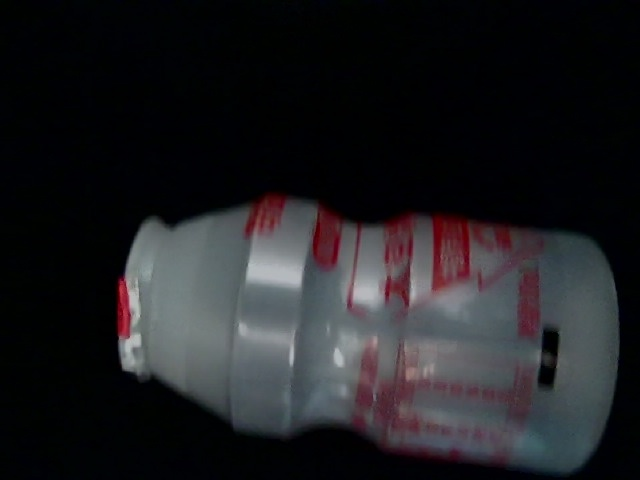CYLJ: (6, 266, 224, 480)
